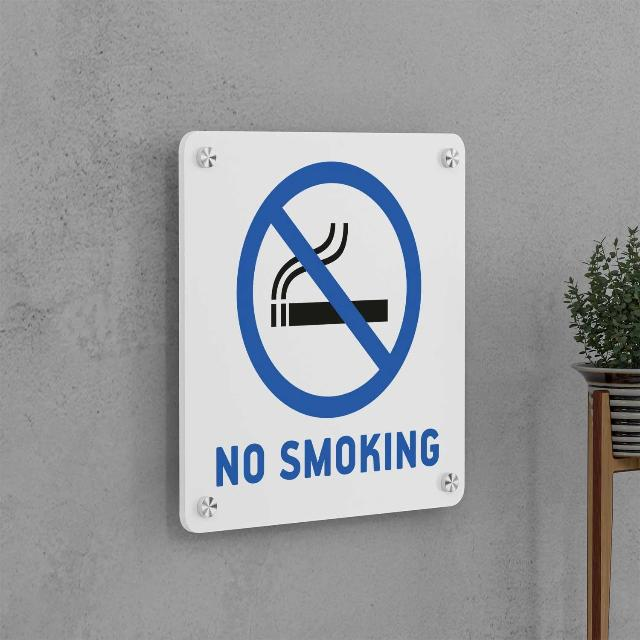cam hut thuoc: (178, 131, 467, 533)
